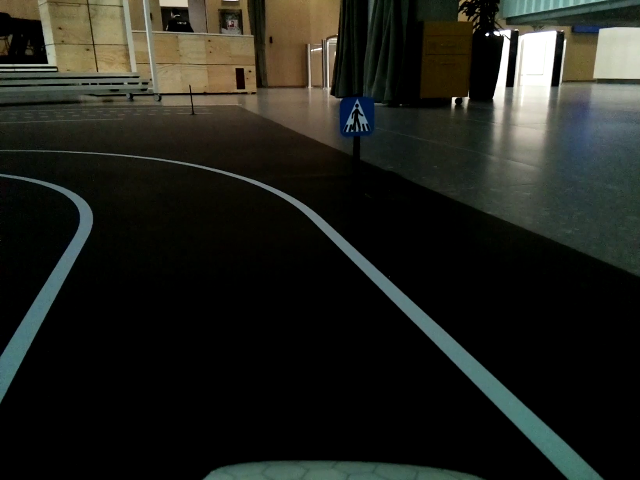pedestrians: (339, 97, 374, 136)
